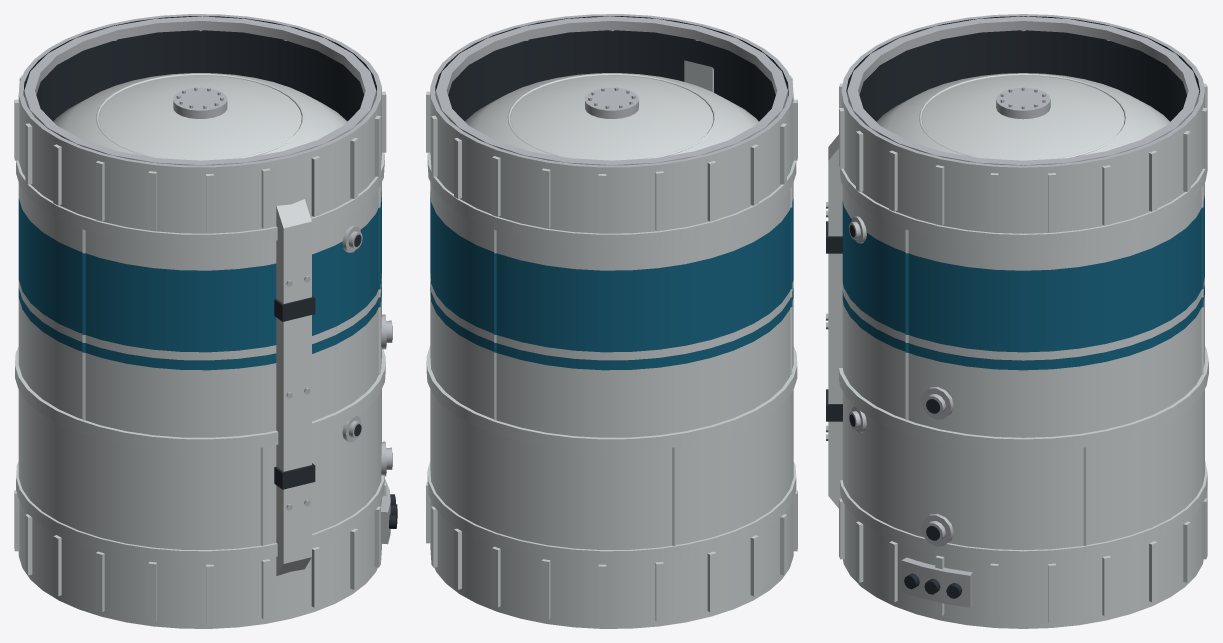
File: tank_s2_xs.glb
The picture shows the model from 3 angles, left to right: view 1: azimuth 30°, elevation 25°; view 2: azimuth 150°, elevation 25°; view 3: azimuth 270°, elevation 25°; orthographic projection.
Parts seen in each view (by area): view 1: tank_s2_xs_mesh; view 2: tank_s2_xs_mesh; view 3: tank_s2_xs_mesh.
Part boxes in pixels (bbox=[...]): tank_s2_xs_mesh: bbox=[14, 14, 397, 628]; tank_s2_xs_mesh: bbox=[426, 14, 797, 628]; tank_s2_xs_mesh: bbox=[826, 14, 1208, 628].
Bounding box in the file's own units: 1.54 × 2.1 × 1.58.
